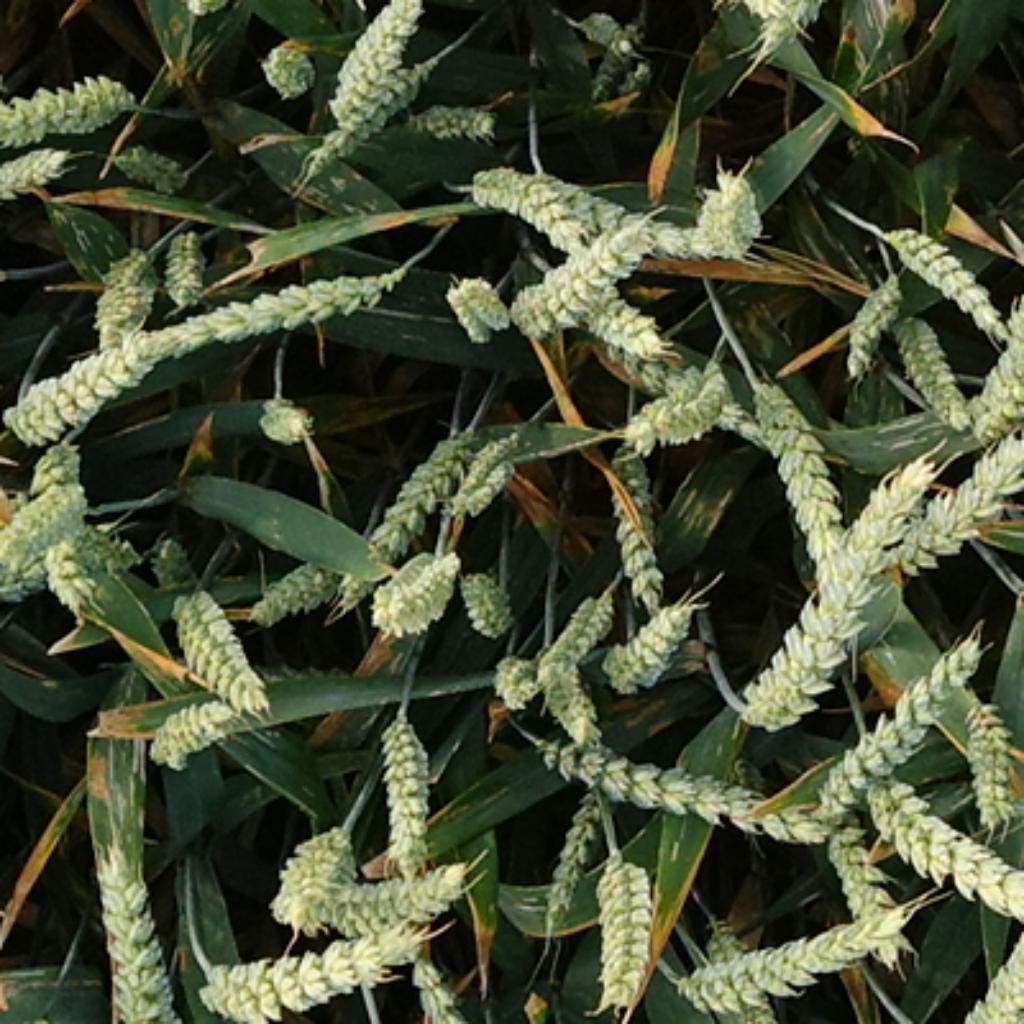0-0: (737, 458, 934, 737), (532, 724, 832, 847), (811, 629, 988, 819), (330, 422, 481, 622), (673, 901, 911, 1011), (901, 366, 1024, 576), (138, 263, 396, 358), (186, 924, 430, 1024), (2, 314, 192, 440), (532, 161, 727, 271), (74, 839, 186, 1024), (852, 804, 1024, 924), (744, 368, 844, 573), (294, 51, 442, 181), (512, 215, 652, 340), (606, 345, 765, 445), (871, 214, 996, 329), (168, 581, 273, 716), (829, 819, 916, 977), (330, 0, 430, 135), (29, 446, 105, 623), (960, 240, 1024, 450), (586, 855, 660, 1018), (2, 65, 143, 147), (0, 524, 141, 606), (611, 360, 727, 455), (606, 440, 668, 614), (471, 166, 596, 250), (263, 824, 358, 934), (330, 865, 481, 934), (599, 596, 701, 698), (378, 714, 437, 888), (893, 312, 975, 435), (542, 788, 606, 944), (954, 678, 1021, 814), (366, 547, 458, 642), (680, 166, 770, 261), (138, 696, 245, 773), (248, 545, 353, 622), (0, 478, 88, 567), (450, 427, 532, 522), (842, 271, 911, 378), (704, 919, 770, 1024), (581, 289, 683, 355), (89, 238, 158, 335), (537, 586, 611, 673), (590, 23, 657, 115), (542, 668, 604, 752), (741, 0, 830, 57), (448, 271, 517, 343), (110, 138, 194, 194), (401, 92, 499, 138), (258, 35, 320, 99), (161, 220, 209, 302), (2, 145, 74, 199), (409, 957, 465, 1024), (248, 386, 314, 442), (458, 560, 506, 632), (491, 642, 545, 704), (151, 527, 199, 583), (572, 8, 608, 49), (852, 0, 947, 10)
